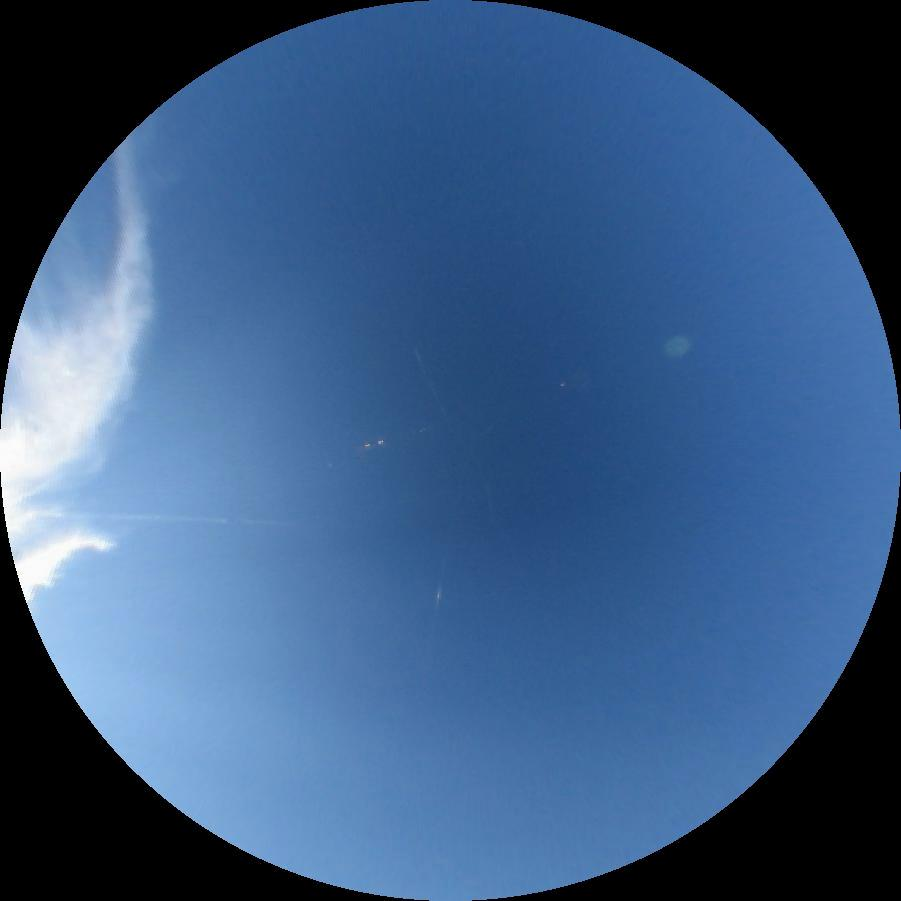parasite: (404, 334, 456, 432), (64, 510, 285, 527), (434, 585, 444, 604)
